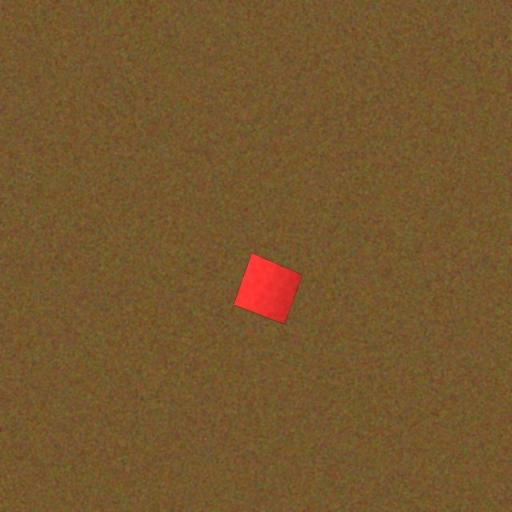RED_SQUARE: (233, 252, 303, 326)
